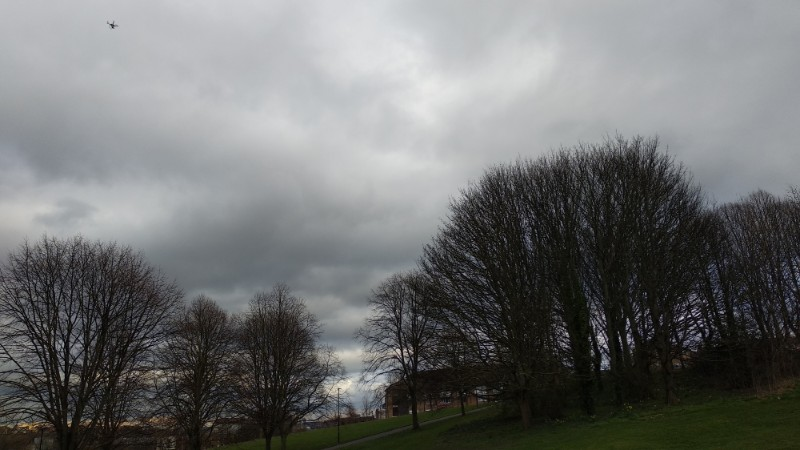drone: (106, 20, 119, 31)
